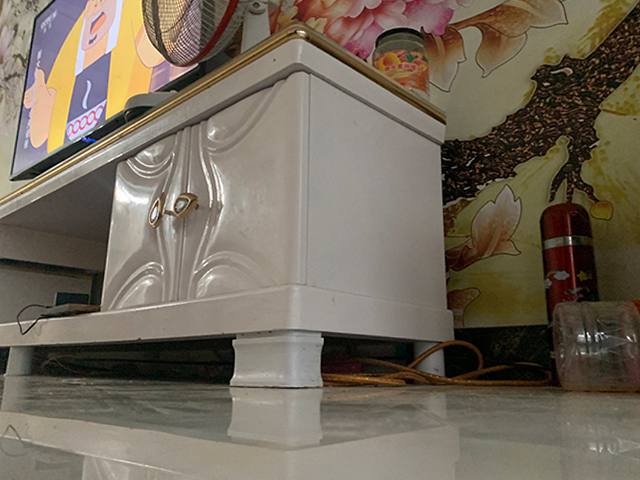cabinet: (1, 22, 455, 389)
wire: (323, 339, 554, 390)
